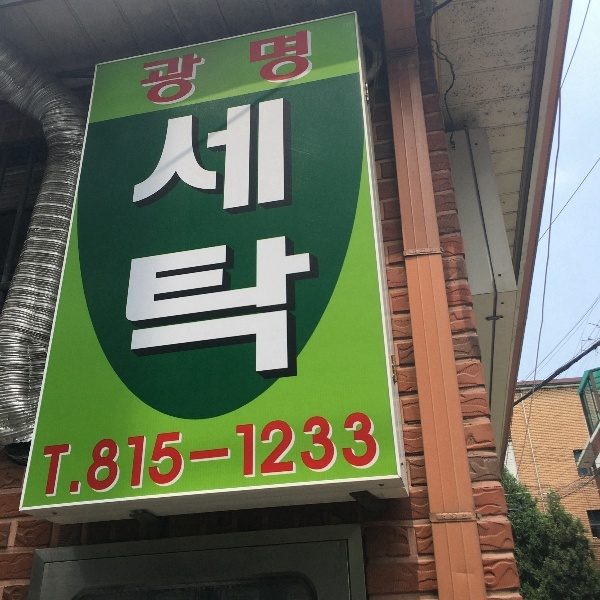text: (145, 94, 160, 376), (161, 94, 176, 376), (177, 94, 192, 376), (193, 94, 208, 376), (209, 94, 224, 376), (225, 94, 240, 376), (241, 94, 256, 376), (257, 94, 272, 376), (273, 94, 288, 376), (289, 94, 304, 376), (305, 94, 313, 376), (49, 410, 64, 504), (65, 410, 80, 504), (81, 410, 96, 504), (97, 410, 112, 504), (113, 410, 128, 504), (129, 410, 144, 504), (145, 410, 160, 504), (161, 410, 176, 504), (177, 410, 192, 504), (193, 410, 208, 504), (209, 410, 224, 504), (225, 410, 240, 504), (241, 410, 256, 504), (257, 410, 272, 504), (273, 410, 288, 504), (289, 410, 304, 504), (305, 410, 320, 504), (321, 410, 336, 504), (337, 410, 352, 504), (353, 410, 368, 504), (145, 27, 160, 111), (161, 27, 176, 111), (177, 27, 192, 111), (193, 27, 208, 111), (209, 27, 224, 111), (225, 27, 240, 111), (241, 27, 256, 111), (257, 27, 272, 111), (273, 27, 288, 111), (289, 27, 304, 111), (369, 410, 381, 504), (141, 94, 144, 376), (305, 27, 312, 111), (44, 410, 48, 504), (142, 27, 144, 111)
